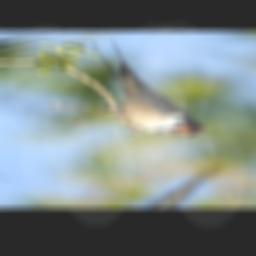Swallow: (10, 37, 256, 139)
